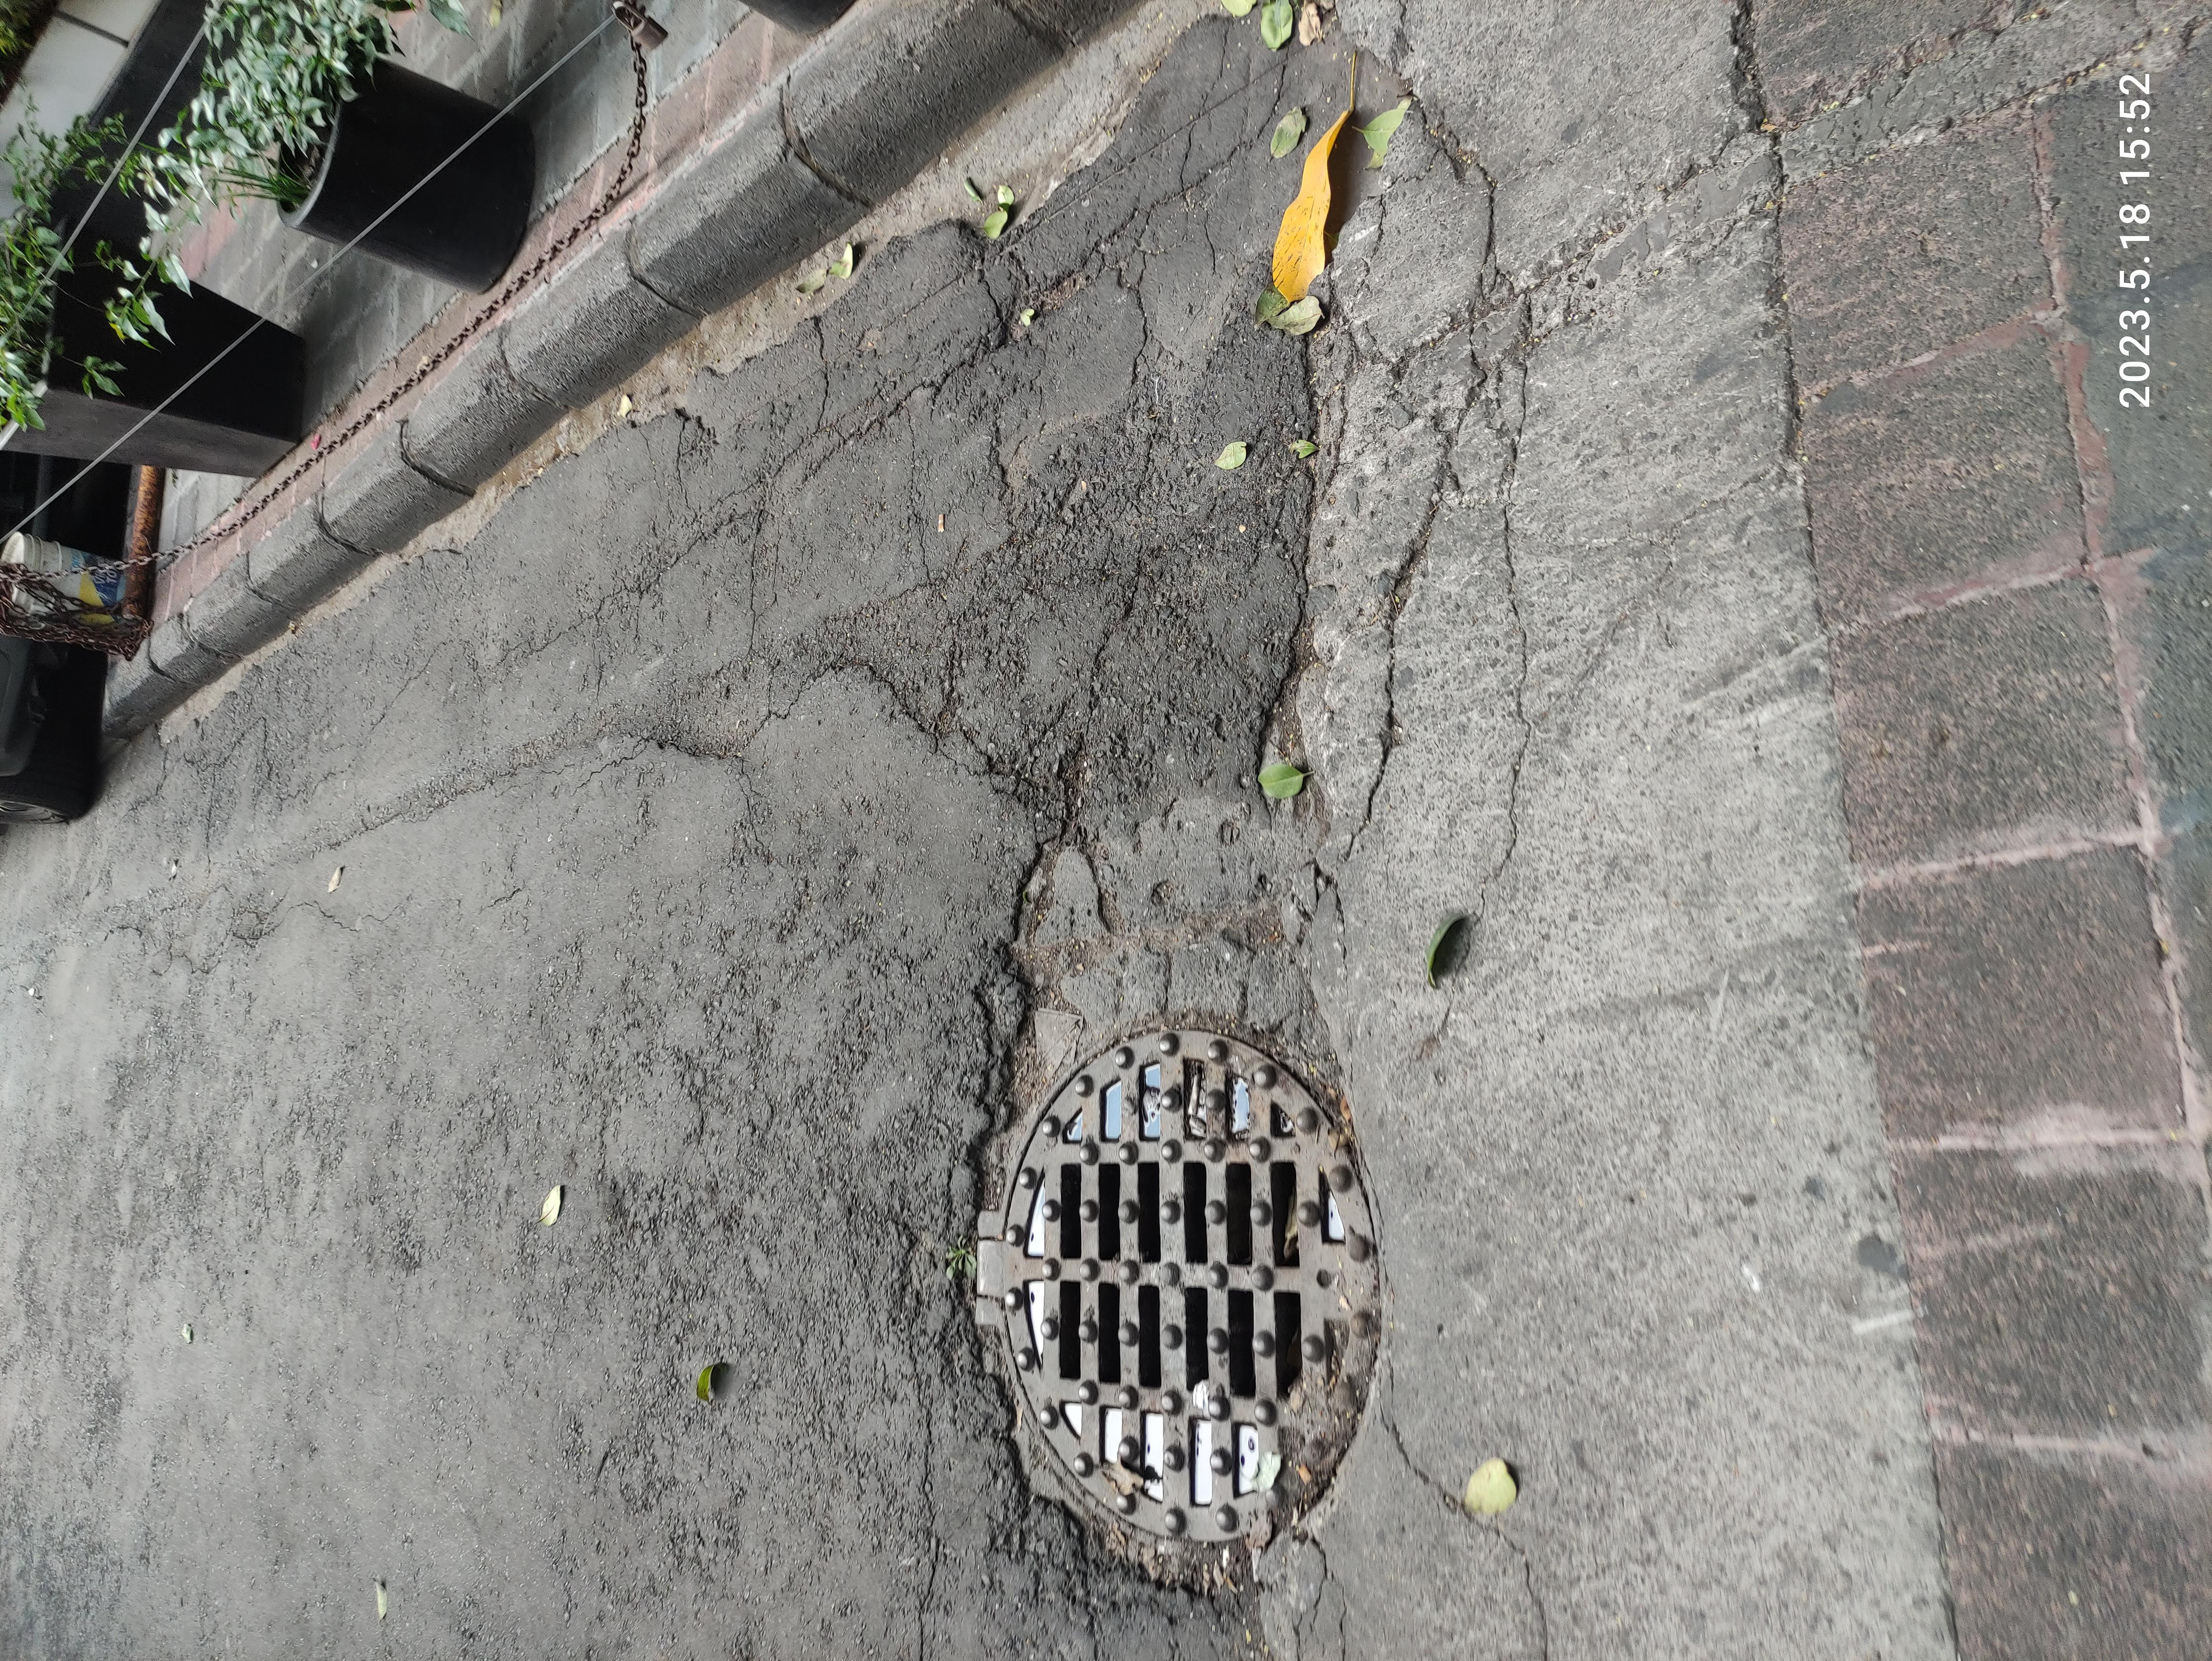alligator-crack: (1097, 414, 2182, 1014), (1561, 1026, 1882, 1178)
crack: (63, 703, 1096, 1040), (1062, 1099, 1539, 1169)
